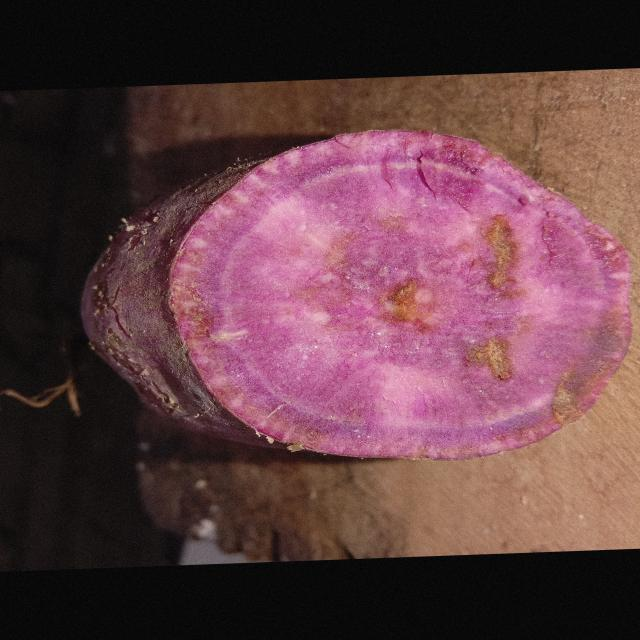Sick Sweet Potato_Tuber Rot: (172, 131, 630, 459)
